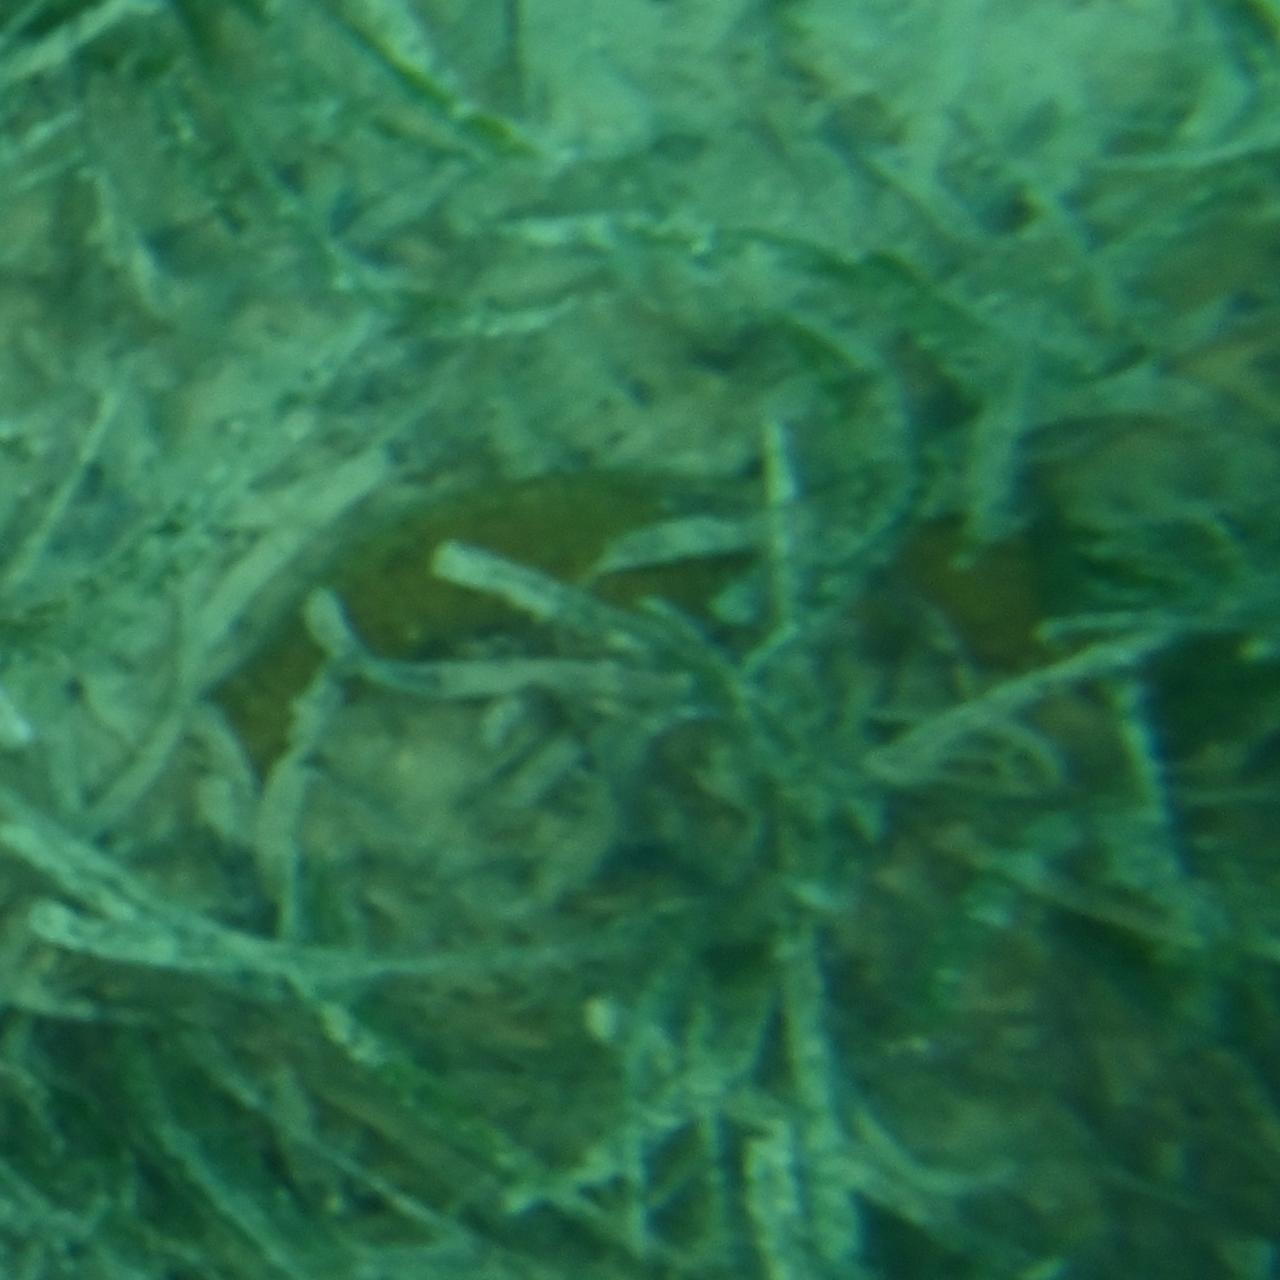Holothuria tubulosa: (208, 468, 1072, 812)
